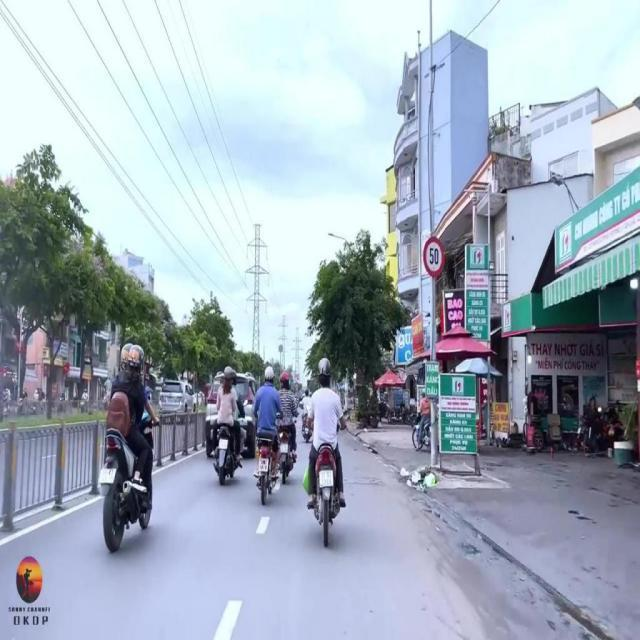127-toc-do-toi-da-50: (422, 237, 446, 275)
